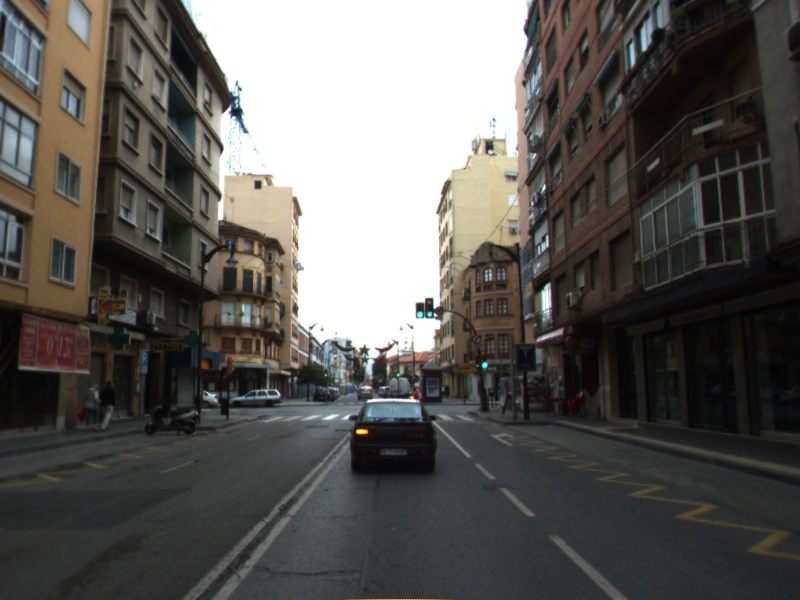RIGHT: (487, 430, 518, 449)
